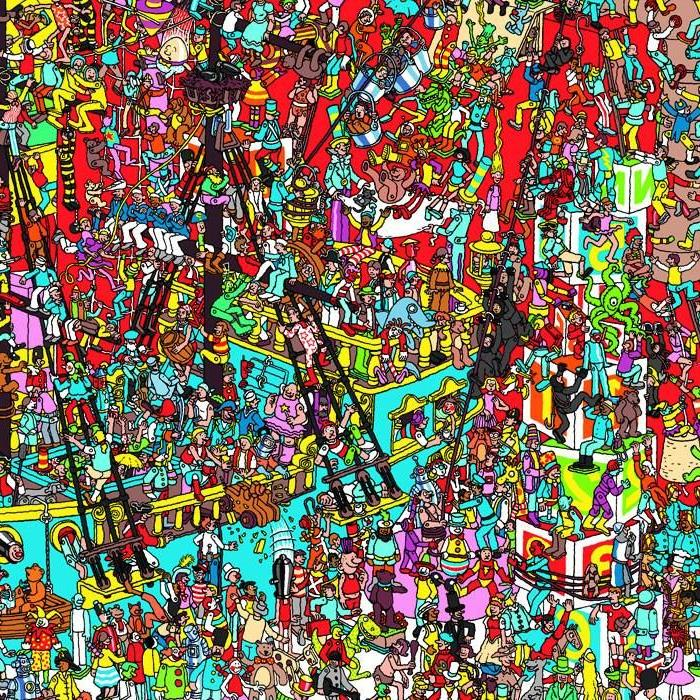waldos: (485, 421, 506, 456)
